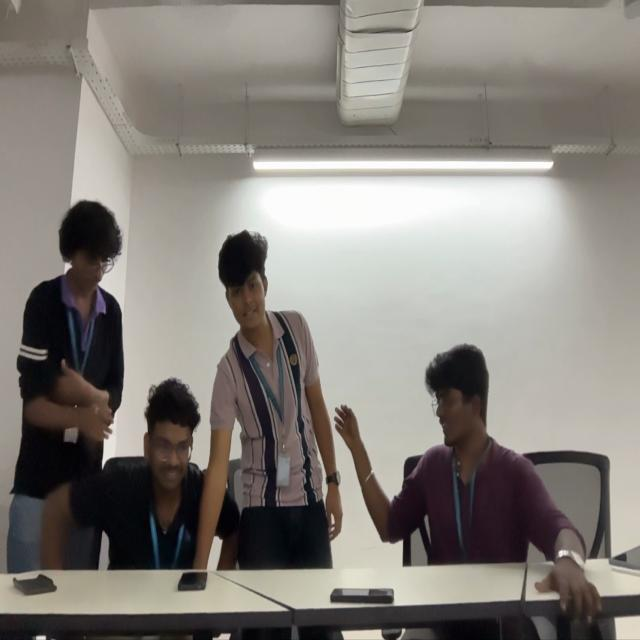Isolated: (370, 343, 596, 613)
socializing: (16, 184, 337, 564)
